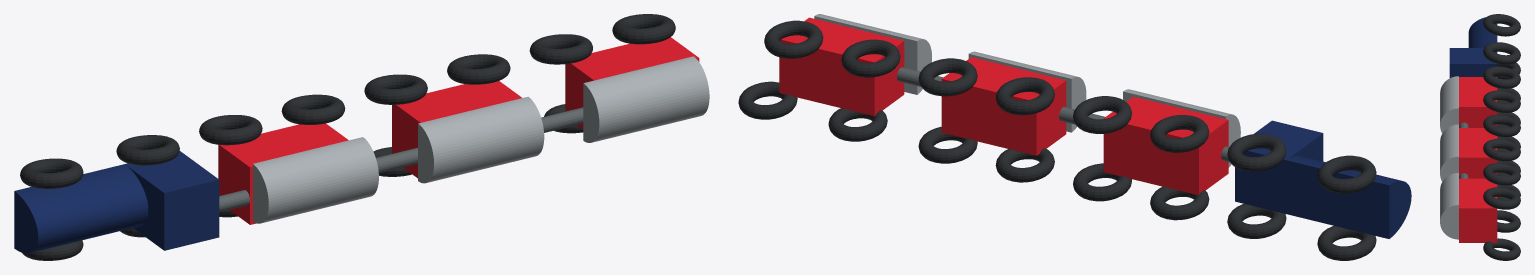
Rendered from tinker.obj.
3 renders of one model, left to right at view 1: azimuth 30°, elevation 25°; view 2: azimuth 150°, elevation 25°; view 3: azimuth 270°, elevation 25°, orthographic. The views are drawn at different scales.
Visible parts, largest first — view 1: group_0_10988977, group_0_2829873, group_0_1650274, group_0_15277357, group_0_6383466; view 2: group_0_2829873, group_0_15277357, group_0_1650274, group_0_10988977, group_0_6383466; view 3: group_0_2829873, group_0_15277357, group_0_10988977, group_0_1650274, group_0_6383466.
Boxes of the visible parts, x1,y1,x2,y2 form: group_0_10988977: (253, 56, 709, 223); group_0_2829873: (20, 14, 675, 260); group_0_1650274: (14, 151, 219, 253); group_0_15277357: (218, 37, 699, 224); group_0_6383466: (219, 107, 583, 212); group_0_2829873: (738, 20, 1376, 260); group_0_15277357: (779, 17, 1228, 194); group_0_1650274: (1235, 120, 1411, 238); group_0_10988977: (814, 14, 1240, 167); group_0_6383466: (897, 67, 1229, 162); group_0_2829873: (1483, 14, 1520, 260); group_0_15277357: (1459, 77, 1497, 242); group_0_10988977: (1440, 76, 1458, 239); group_0_1650274: (1449, 17, 1497, 77); group_0_6383466: (1459, 122, 1468, 178).
Bounding box in the file's own units: 250 × 32.04 × 42.4.
